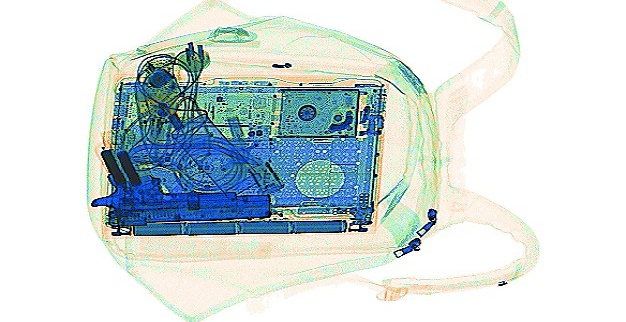zippooil: (167, 110, 261, 200)
